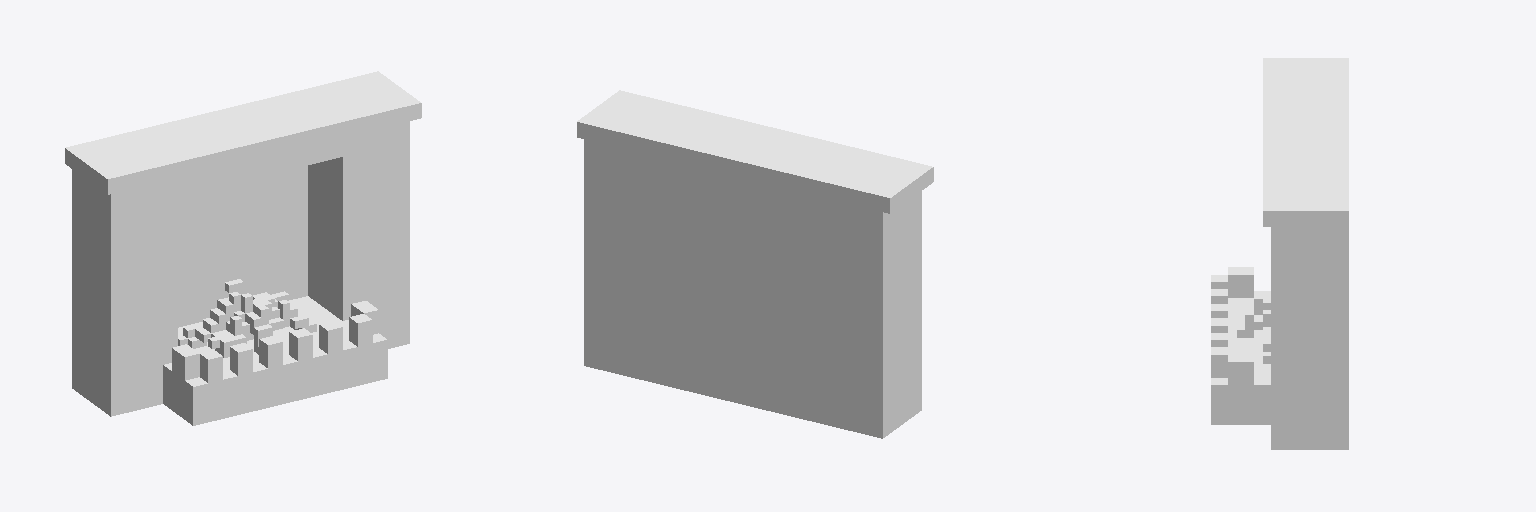
Rendered from komenek.obj.
3 views of the same model, side by side, from view 1: azimuth 30°, elevation 25°; view 2: azimuth 150°, elevation 25°; view 3: azimuth 270°, elevation 25° (orthographic).
Visible parts, largest first — view 1: object 1; view 2: object 1; view 3: object 1.
Boxes of the visible parts, x1=… form: object 1: x1=65, y1=71, x2=421, y2=425; object 1: x1=577, y1=90, x2=933, y2=438; object 1: x1=1211, y1=58, x2=1348, y2=449.
Size of the model in its own units: 8.4 by 6.2 by 3.2.